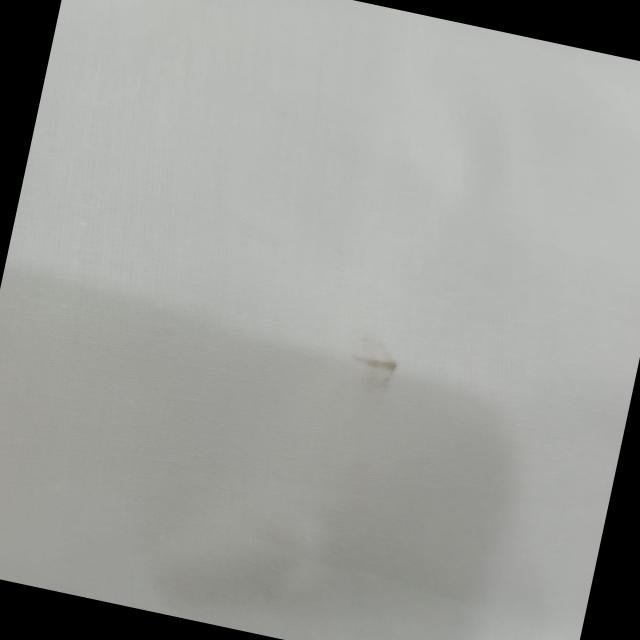stain: (328, 327, 419, 404)
